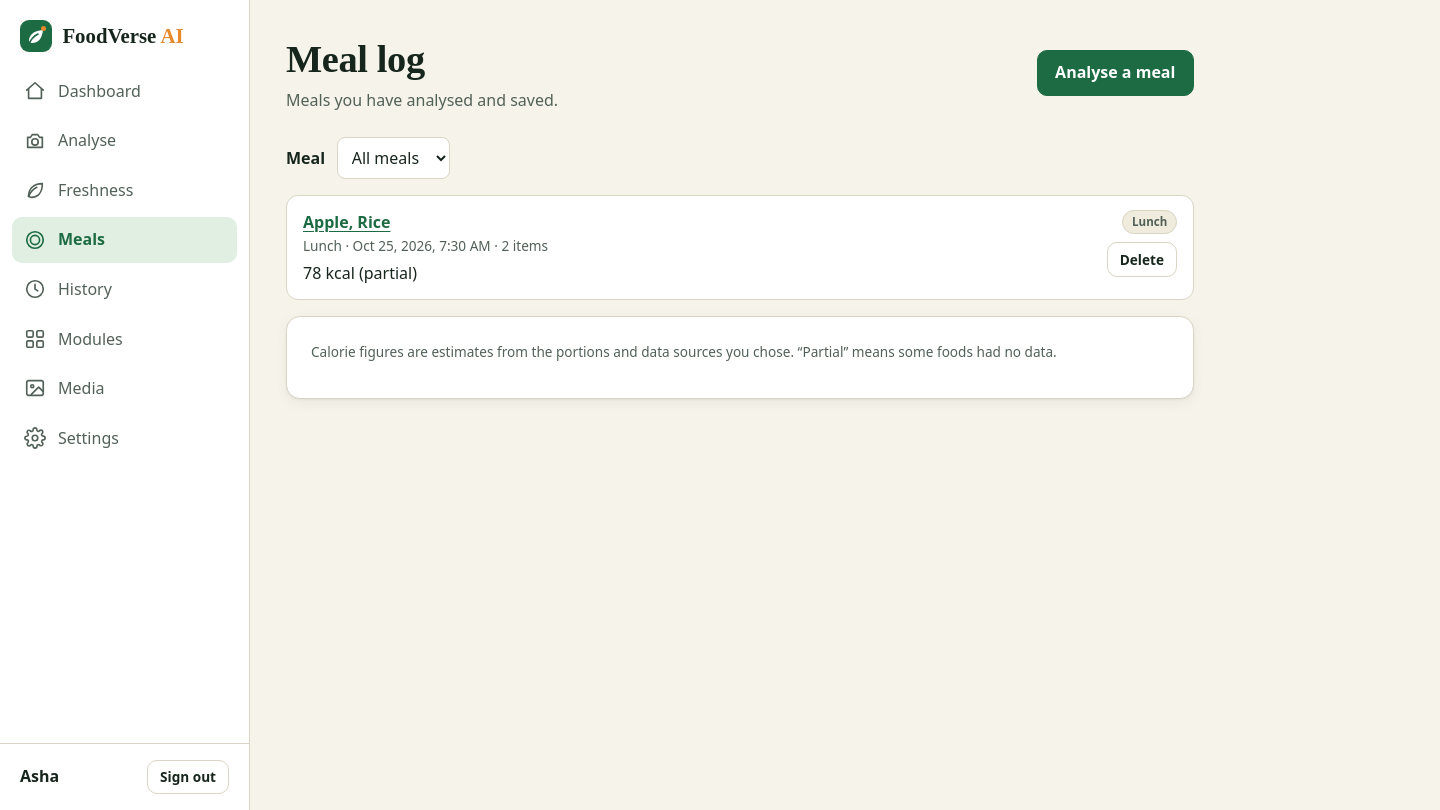
meal log › deletes only after confirmation
What coordinates should you click on to do the following:
click the button with aria-label "Delete Apple, Rice"
I would click on:
 (1142, 260)
Its box is [1107,242,1177,277].
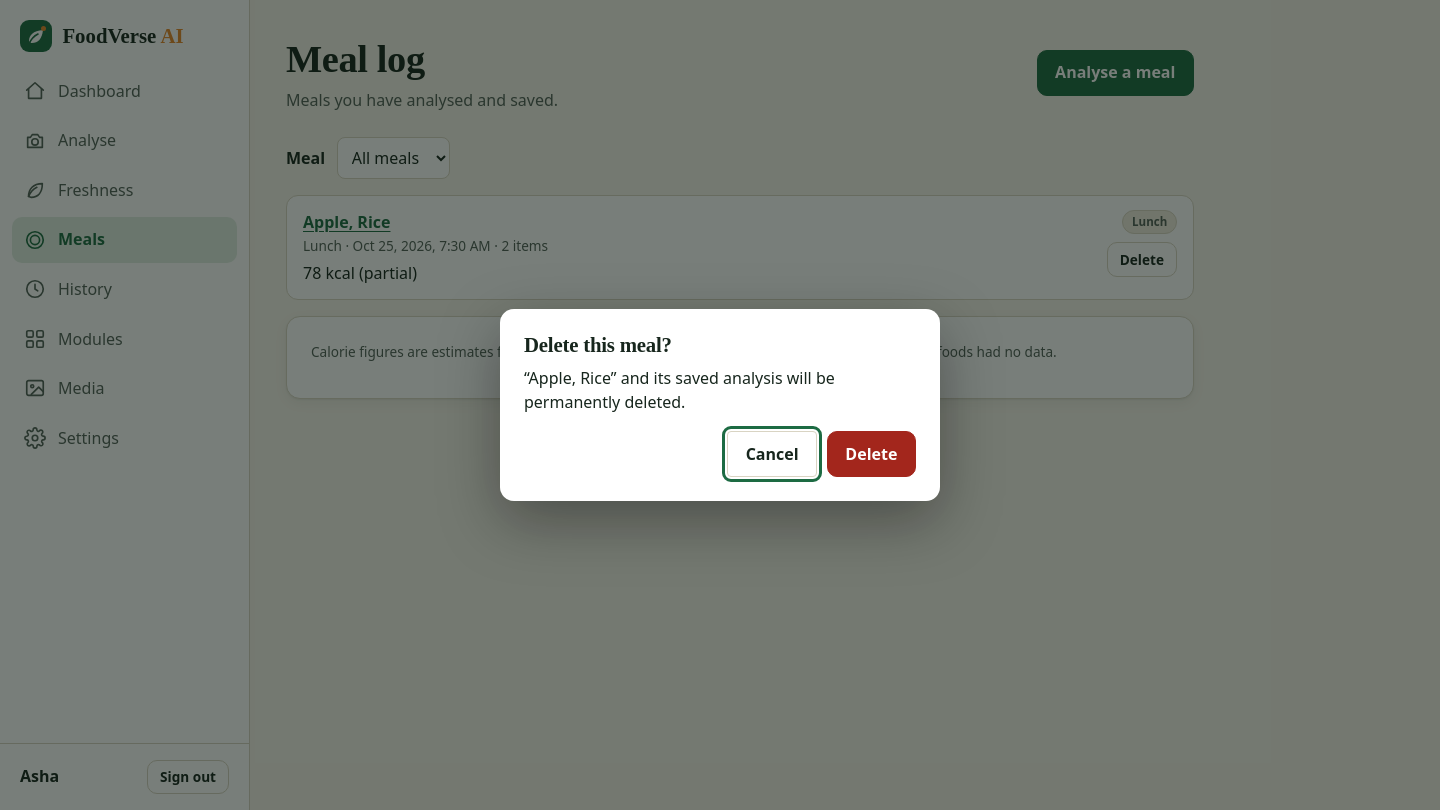
What coordinates should you click on to do the following:
click the button "Cancel"
I would click on:
 (772, 454)
Its box is [727,431,817,477].
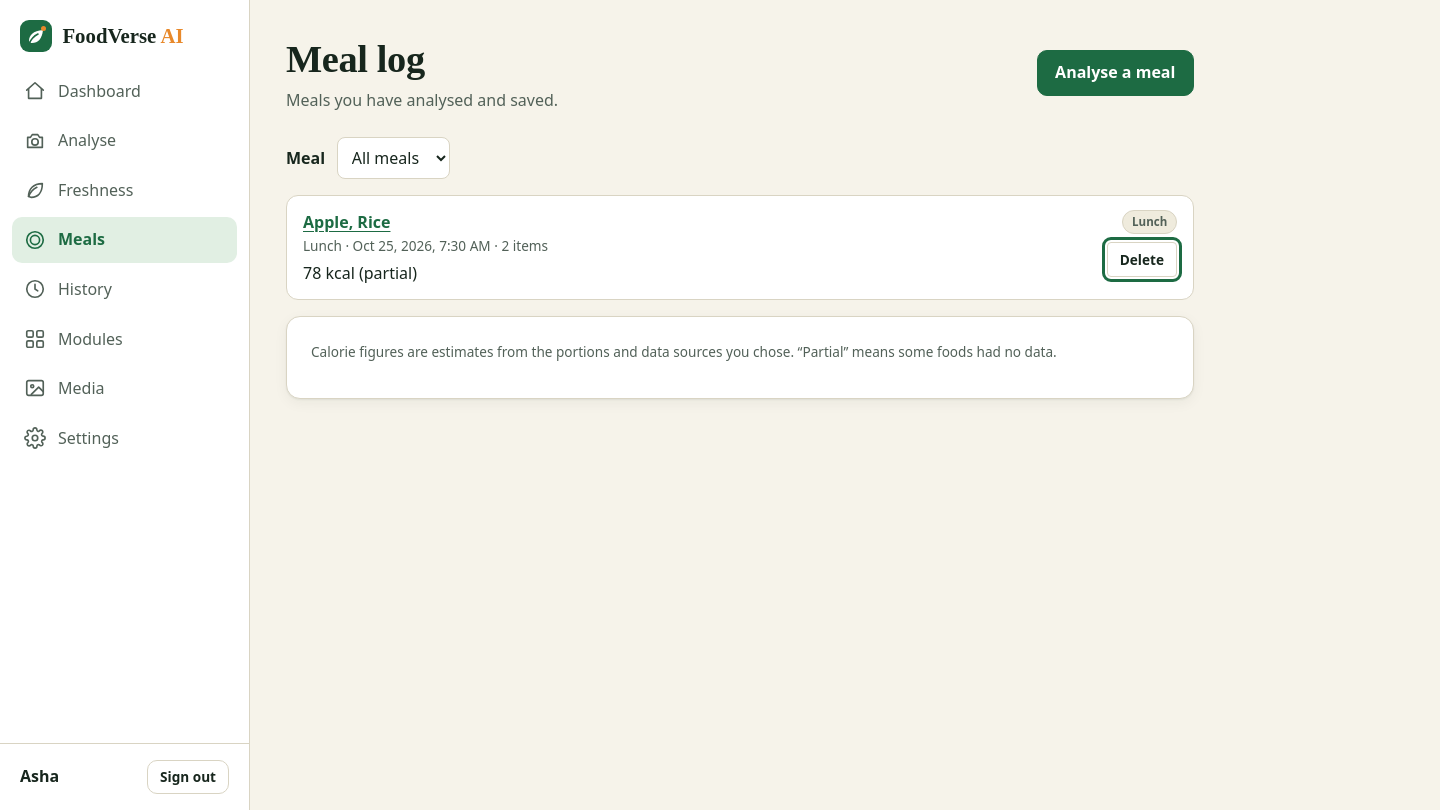
What coordinates should you click on to do the following:
click the button with aria-label "Delete Apple, Rice"
I would click on:
 (1142, 260)
Its box is [1107,242,1177,277].
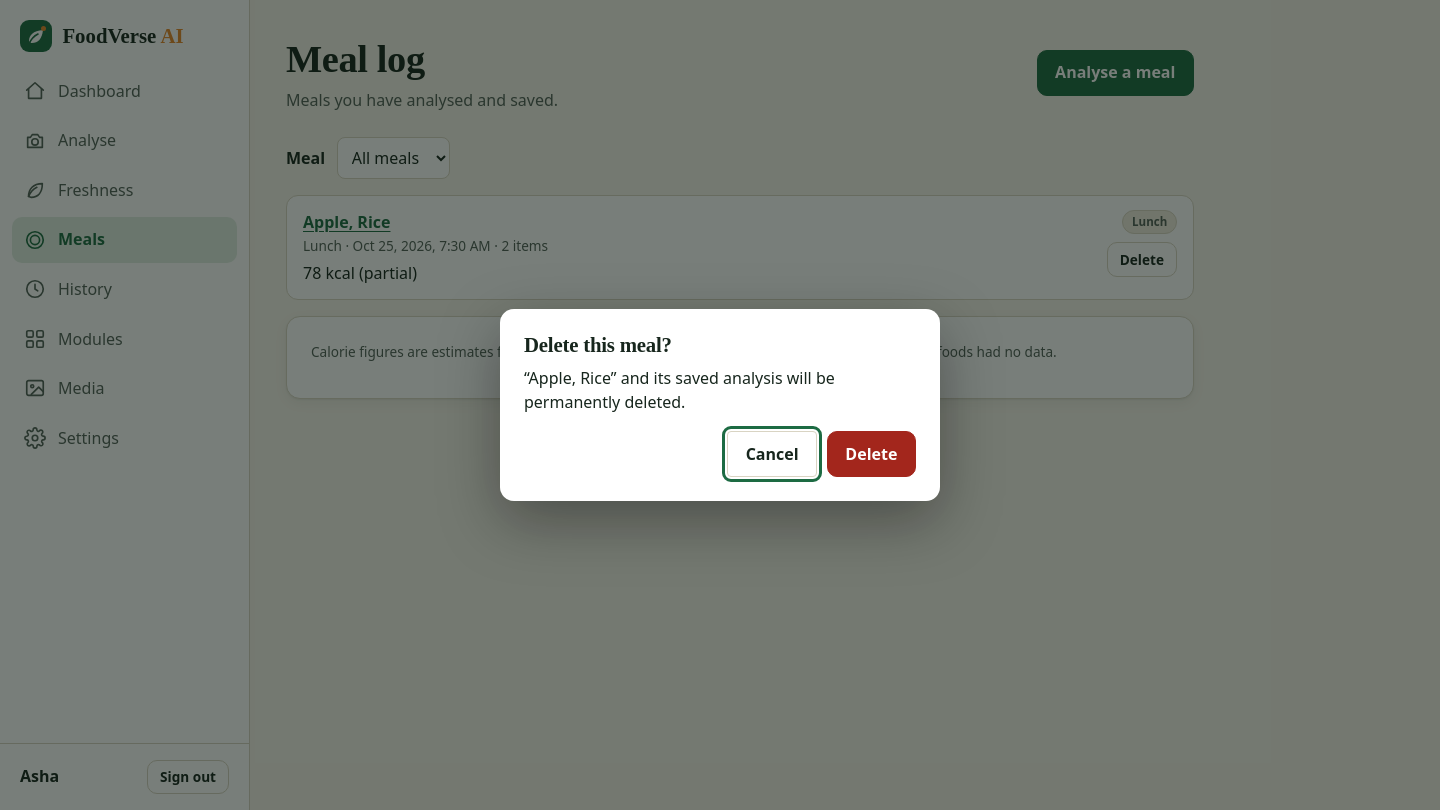
What coordinates should you click on to do the following:
click the button "Delete"
I would click on:
 (871, 454)
Its box is [827,431,916,477].
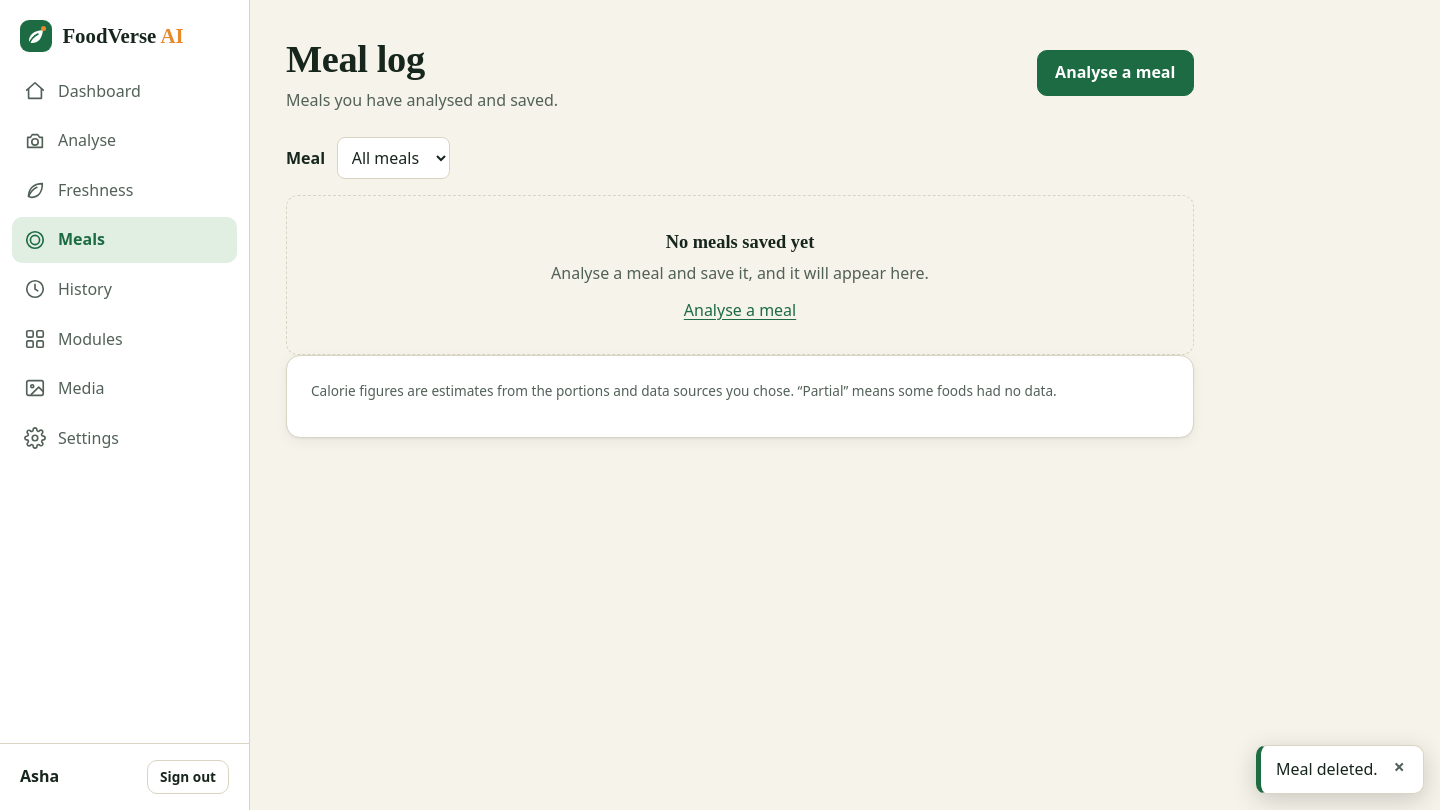
Result: the text "Meal deleted." is shown at [1276,757,1378,782]
Result: the text "No meals saved yet" is shown at [666,232,814,252]
